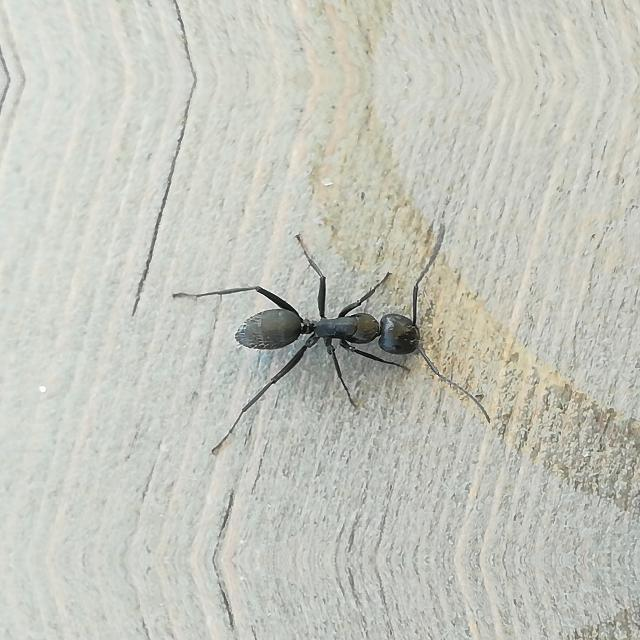Camponotus: (210, 242, 442, 418)
